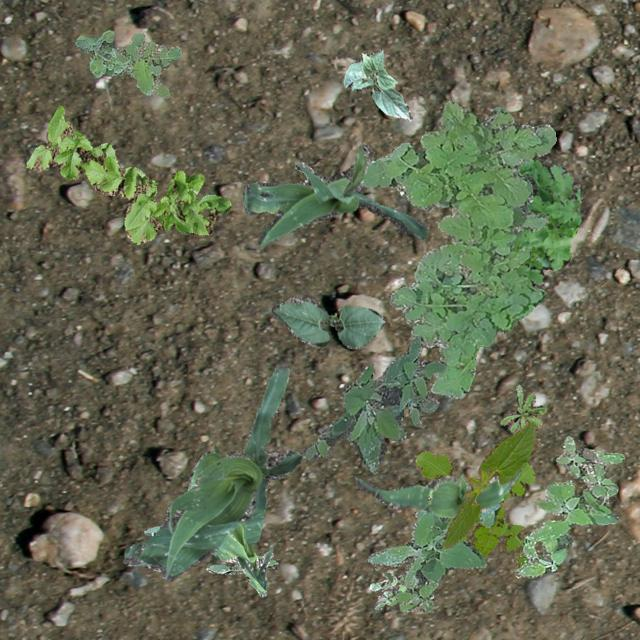crop: (122, 364, 300, 580), (242, 142, 426, 246), (442, 420, 536, 548), (142, 520, 272, 590), (354, 468, 520, 518), (271, 296, 384, 348), (342, 48, 410, 120), (187, 444, 220, 490)
weed: (360, 100, 556, 398), (24, 104, 230, 244), (298, 336, 446, 472), (514, 436, 624, 578), (414, 450, 542, 568), (366, 502, 499, 612), (510, 158, 580, 288), (74, 28, 180, 96), (205, 558, 278, 596), (500, 384, 546, 431), (368, 570, 406, 608)
